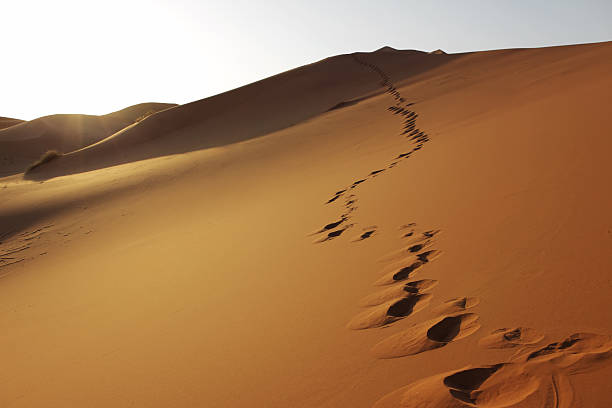human_footprint: (374, 333, 611, 407), (326, 138, 424, 216), (348, 253, 436, 328), (372, 313, 479, 358), (347, 292, 431, 329), (375, 249, 440, 285), (360, 279, 437, 306), (478, 327, 543, 348), (434, 296, 479, 314), (310, 215, 347, 234), (315, 224, 353, 242), (352, 225, 377, 241)
